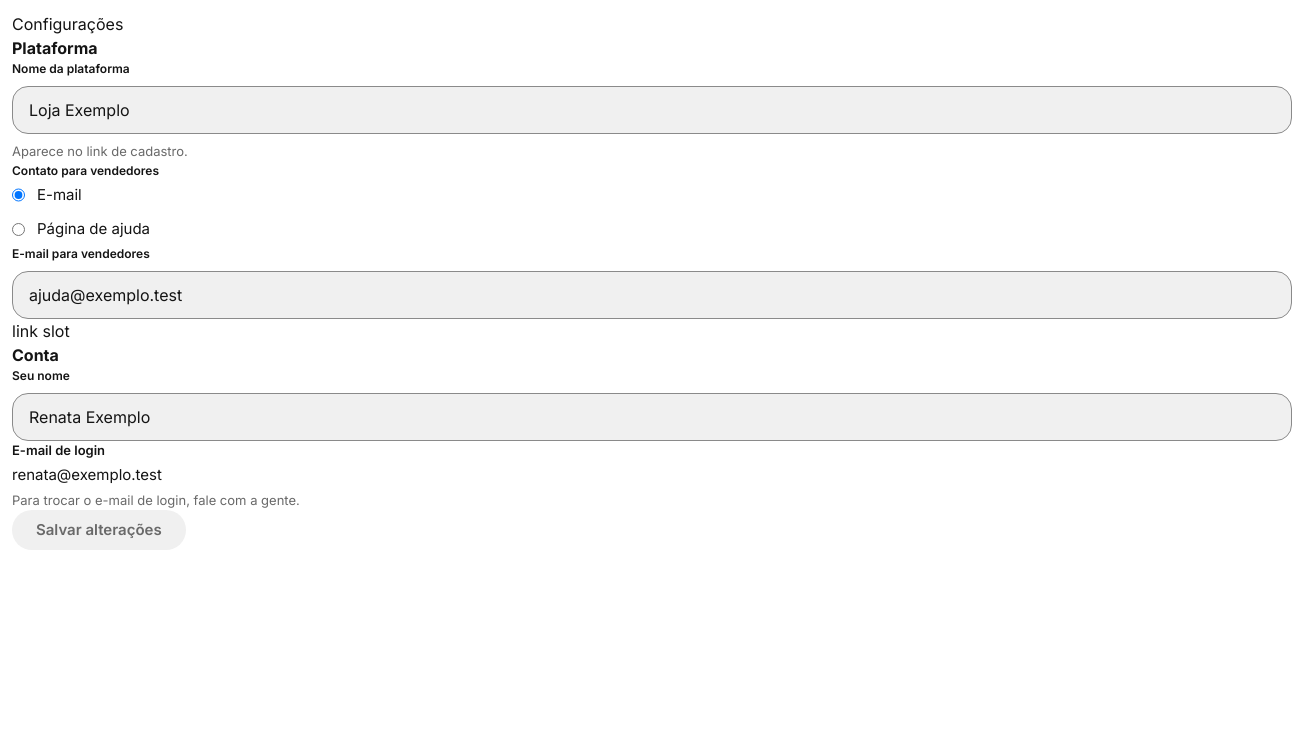
Scenario: SettingsForm (T135, AC 60) › a failure shows error.network inline and keeps the values
This screenshot has width=1304, height=732.
Step 1. Type " Nova" into the field labelled "Nome da plataforma" → point(652, 110), box [12,86,1292,134]
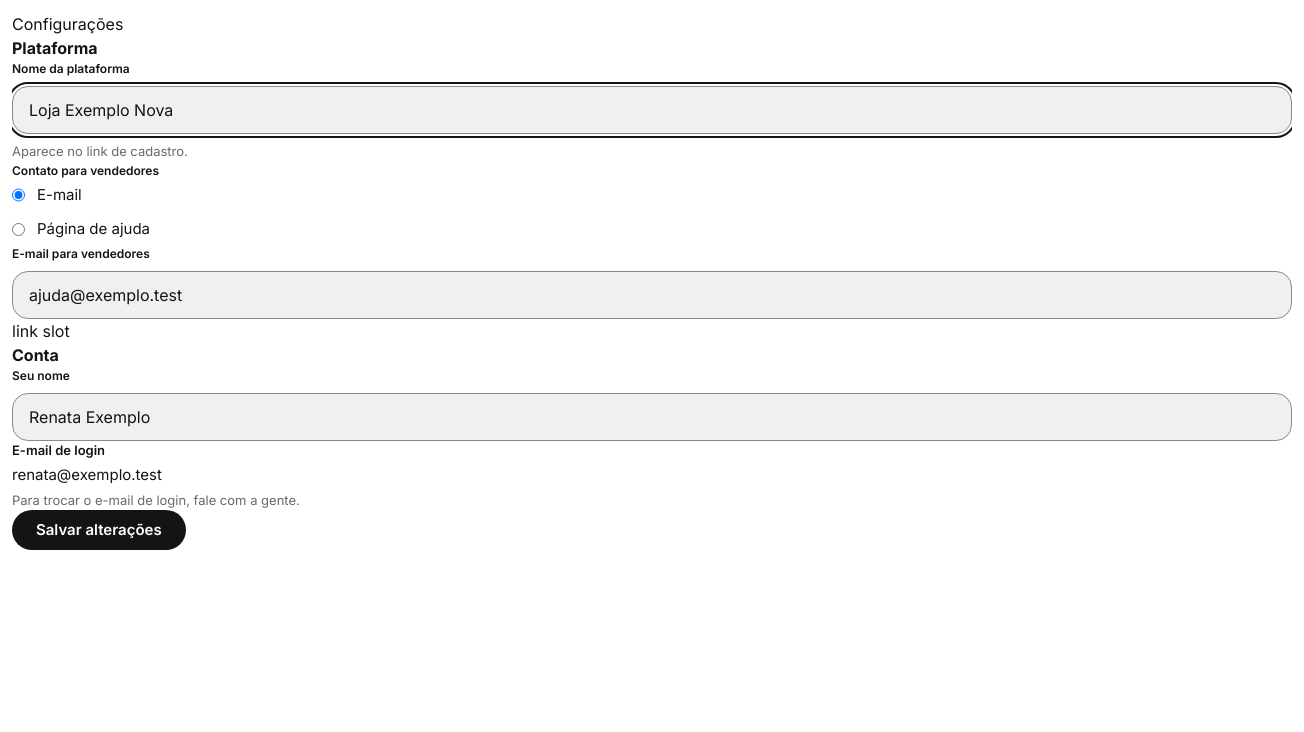
Step 2. Click the button "Salvar alterações" → point(99, 530), box [12,510,186,550]
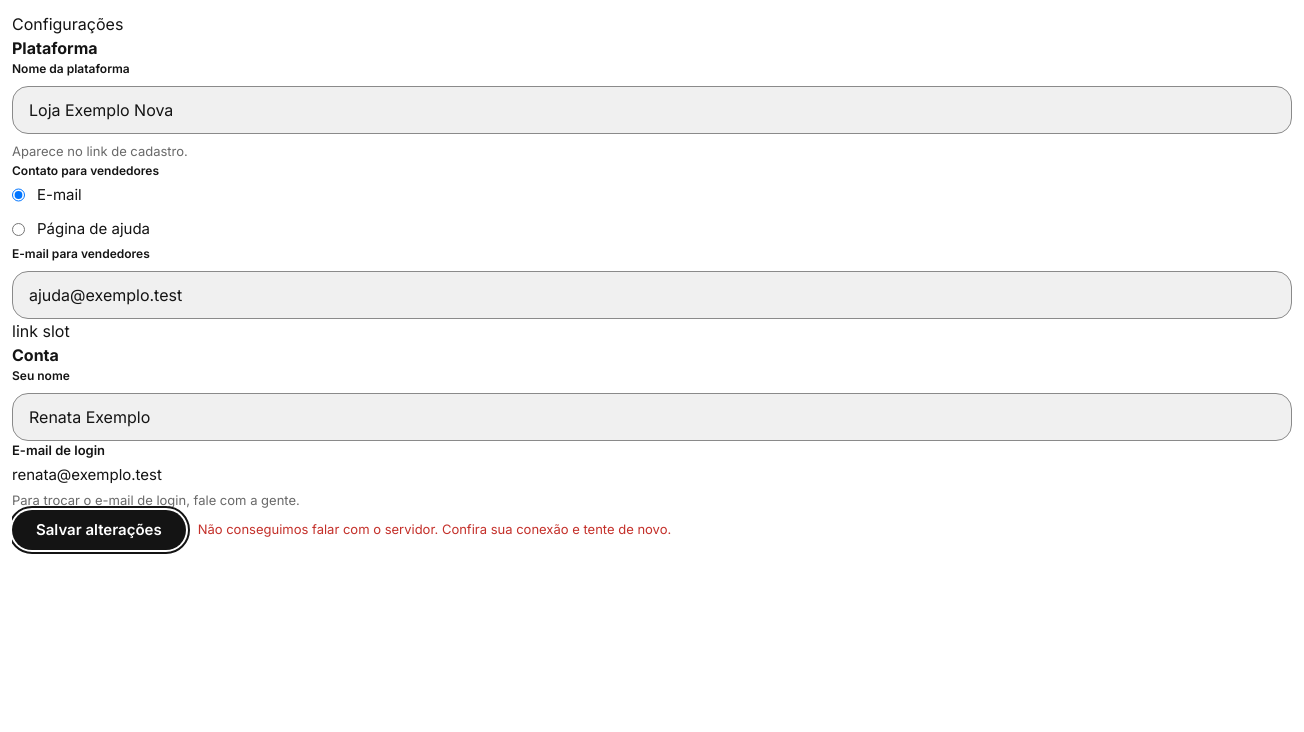
expect the field labelled "Nome da plataforma" holds "Loja Exemplo Nova": met, box [12,86,1292,134]
expect the button "Salvar alterações" is enabled: met, box [12,510,186,550]
expect the message reads "Não conseguimos falar com o servidor. Confira sua conexão e tente de novo.": met, box [198,521,671,537]
